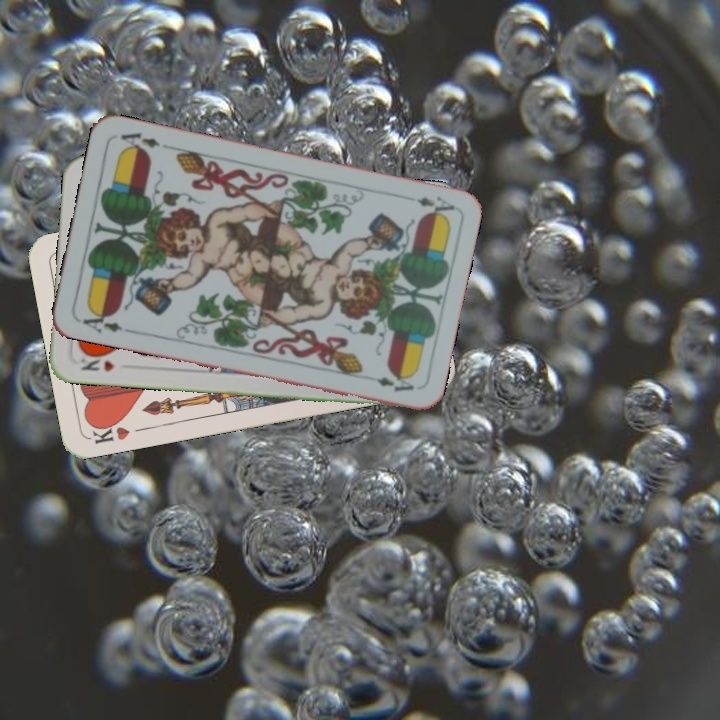EA: (79, 306, 125, 336), (413, 192, 457, 219)
HK: (86, 416, 145, 447), (74, 348, 117, 374)
